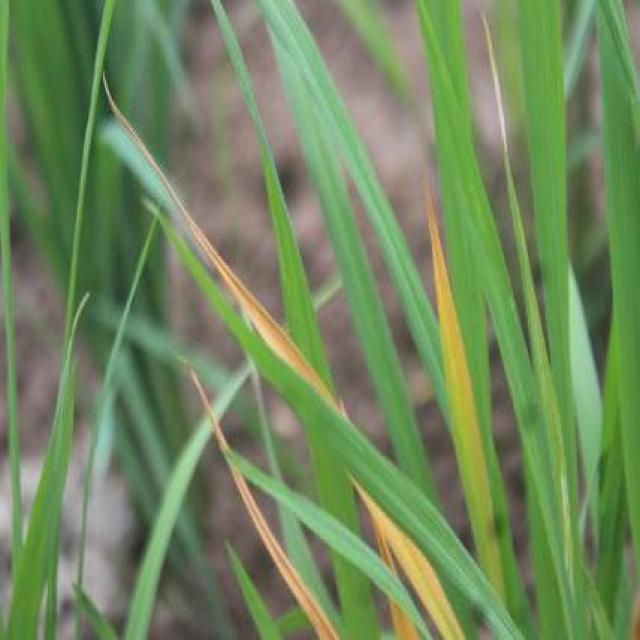Tungro: (119, 96, 342, 376), (184, 355, 354, 640), (411, 177, 508, 542), (360, 453, 460, 640)
